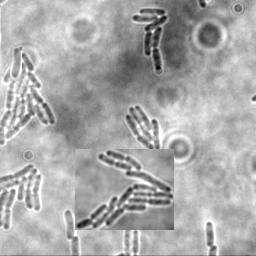Dividing: (204, 221, 215, 248)
Microcolony: (75, 149, 174, 230), (1, 51, 56, 147), (1, 162, 44, 231), (130, 8, 167, 72), (124, 106, 160, 149), (10, 47, 22, 81), (63, 208, 74, 240)
